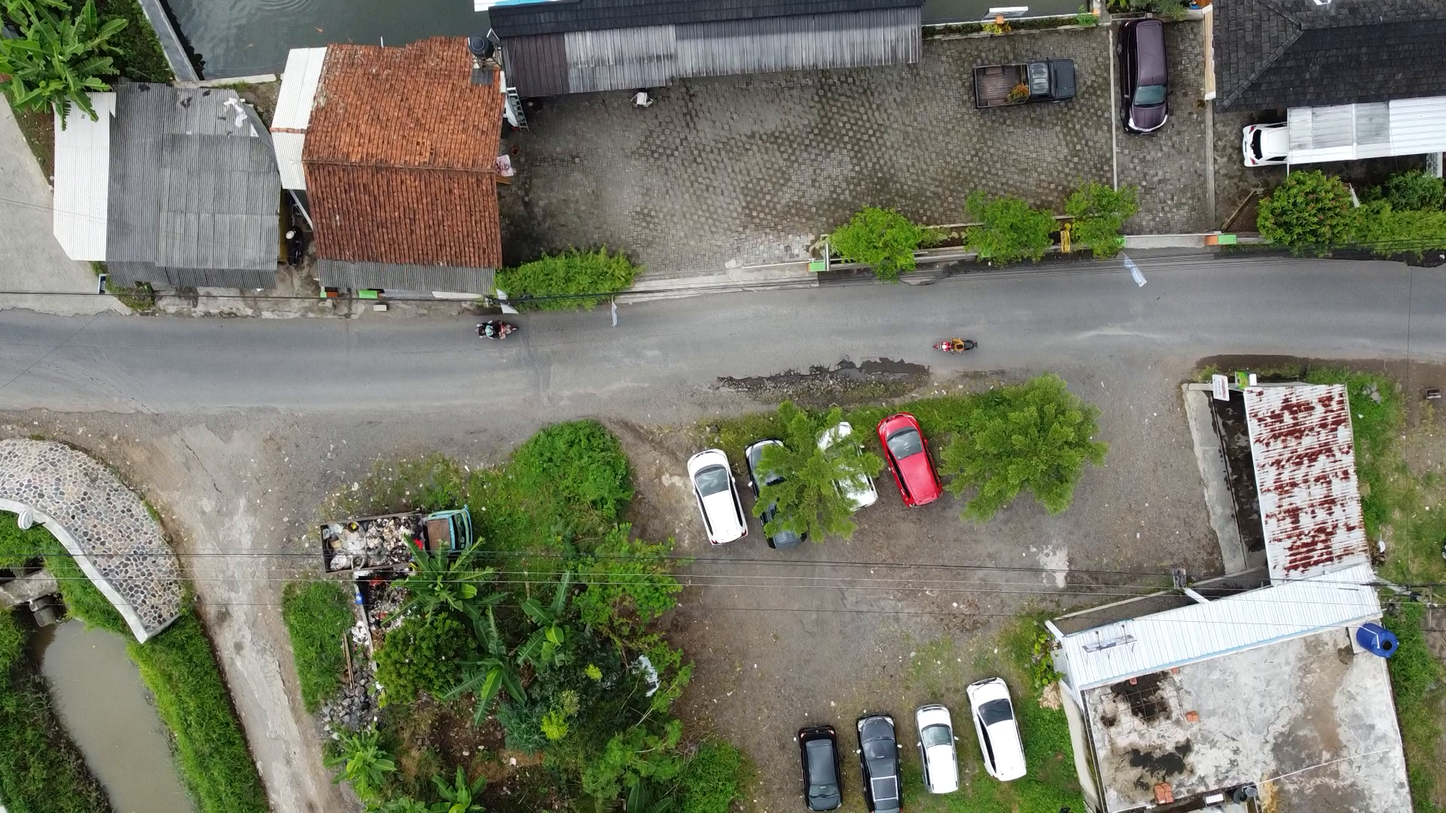mobil: (959, 668, 1035, 789), (877, 396, 951, 517), (734, 439, 811, 553), (803, 413, 881, 517), (682, 441, 752, 555), (1123, 17, 1184, 139), (845, 704, 912, 812), (964, 57, 1091, 113), (909, 678, 965, 800), (786, 721, 845, 813), (1235, 118, 1308, 171)
